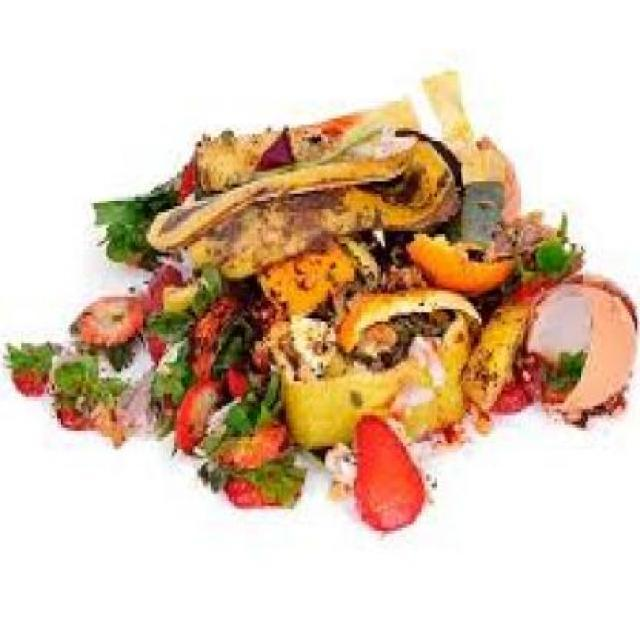garbage: (0, 31, 637, 636)
